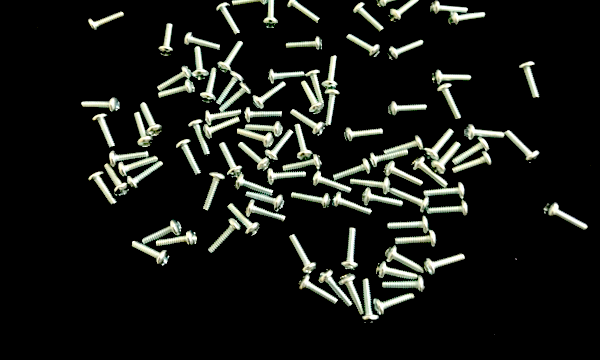shortscrew: (319, 269, 355, 309), (544, 201, 590, 232), (298, 275, 340, 306), (505, 129, 541, 165), (208, 218, 243, 255), (289, 234, 319, 277), (226, 203, 262, 237), (127, 161, 164, 192), (452, 137, 491, 166), (131, 240, 171, 268), (388, 187, 431, 213), (339, 273, 365, 316), (142, 219, 183, 246), (88, 172, 118, 208), (385, 247, 424, 274), (374, 293, 416, 318), (216, 71, 246, 106), (331, 192, 371, 218), (352, 2, 385, 33), (218, 83, 252, 113), (253, 81, 288, 110), (265, 129, 294, 163), (291, 109, 326, 137), (384, 135, 424, 159), (424, 252, 467, 274), (452, 152, 493, 175), (332, 158, 371, 182), (346, 34, 382, 60), (177, 140, 203, 176), (437, 83, 462, 120), (219, 142, 244, 179), (157, 66, 194, 91), (246, 200, 286, 223), (235, 174, 275, 197), (203, 172, 226, 212), (386, 39, 424, 63), (118, 156, 159, 178), (218, 41, 245, 74), (104, 163, 130, 197), (368, 148, 410, 169), (360, 279, 379, 325), (245, 191, 286, 212), (203, 117, 240, 140), (139, 103, 164, 137), (361, 188, 403, 208), (287, 0, 322, 24), (92, 113, 116, 148), (520, 62, 542, 100), (188, 120, 211, 156), (340, 228, 359, 271), (300, 81, 324, 115), (290, 191, 330, 211), (87, 12, 125, 33), (237, 128, 275, 149), (156, 230, 198, 249), (423, 182, 467, 200), (158, 80, 197, 100), (387, 100, 428, 119), (133, 112, 154, 149), (387, 216, 430, 234), (395, 230, 438, 248), (376, 261, 419, 279), (216, 3, 240, 35), (388, 0, 421, 23), (382, 276, 426, 293), (294, 124, 314, 161), (432, 69, 472, 87), (427, 201, 469, 218), (245, 121, 284, 139), (199, 68, 219, 103), (464, 124, 505, 141), (447, 11, 488, 28), (344, 127, 385, 144), (350, 177, 391, 194), (81, 96, 121, 113), (110, 151, 150, 168), (184, 32, 221, 50), (324, 89, 341, 127), (305, 70, 324, 104), (429, 0, 469, 16), (205, 109, 242, 126), (321, 56, 339, 90), (268, 69, 306, 85), (158, 23, 175, 58), (245, 107, 284, 122), (192, 47, 209, 81), (286, 37, 324, 50), (264, 0, 279, 29), (376, 0, 412, 9), (231, 0, 268, 8)
